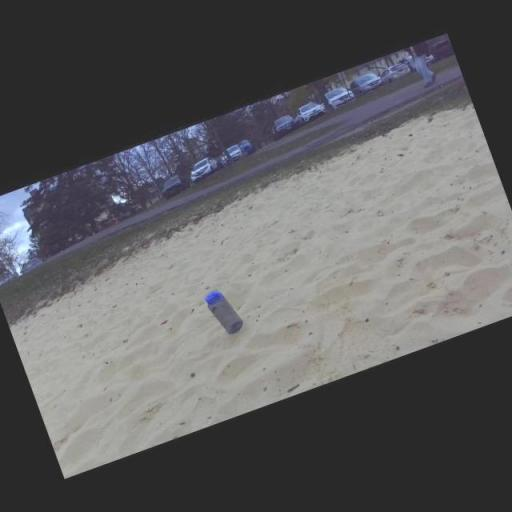bottle: (202, 284, 248, 340)
